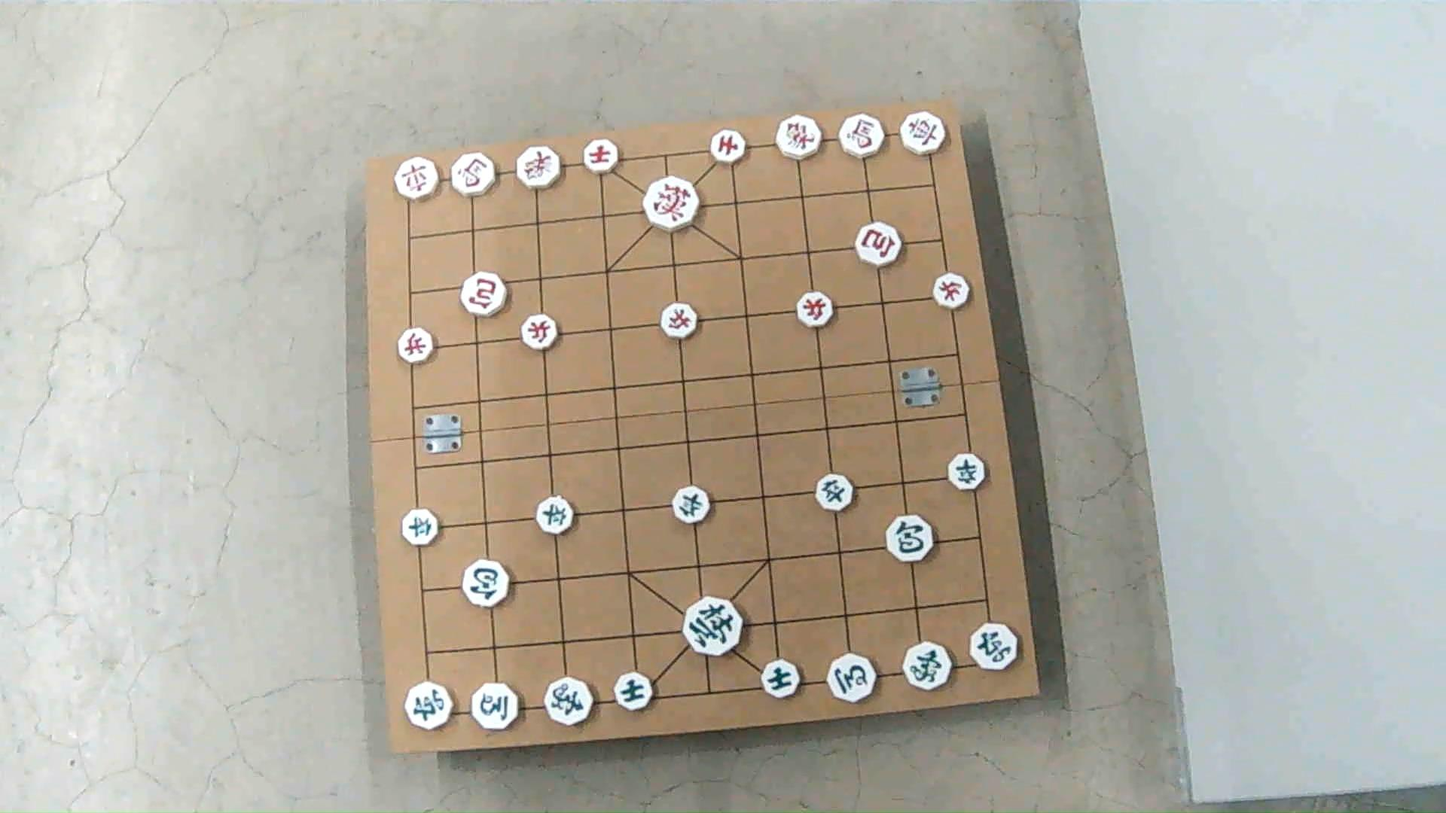cha_green: (404, 681, 453, 728), (970, 624, 1017, 671)
cha_red: (903, 114, 948, 157), (395, 157, 439, 199)
jol_green: (401, 510, 440, 547), (948, 452, 986, 489), (537, 498, 574, 535), (816, 473, 853, 510), (673, 487, 709, 523)
jol_red: (796, 291, 834, 326), (399, 327, 435, 363), (660, 306, 697, 341), (522, 315, 559, 350), (935, 273, 972, 308)
ma_green: (830, 653, 878, 702), (470, 682, 518, 729)
ma_red: (453, 154, 498, 197), (840, 114, 884, 157)
po_green: (887, 515, 935, 562), (464, 559, 511, 606)
po_red: (461, 274, 507, 318), (856, 222, 901, 265)
sa_green: (614, 674, 653, 713), (763, 661, 801, 699)
sa_red: (582, 141, 618, 175), (710, 129, 745, 163)
sang_green: (544, 677, 593, 725), (905, 643, 953, 691)
sang_red: (776, 114, 822, 158), (520, 147, 563, 190)
wang_green: (685, 597, 743, 655)
wang_red: (642, 179, 697, 231)
